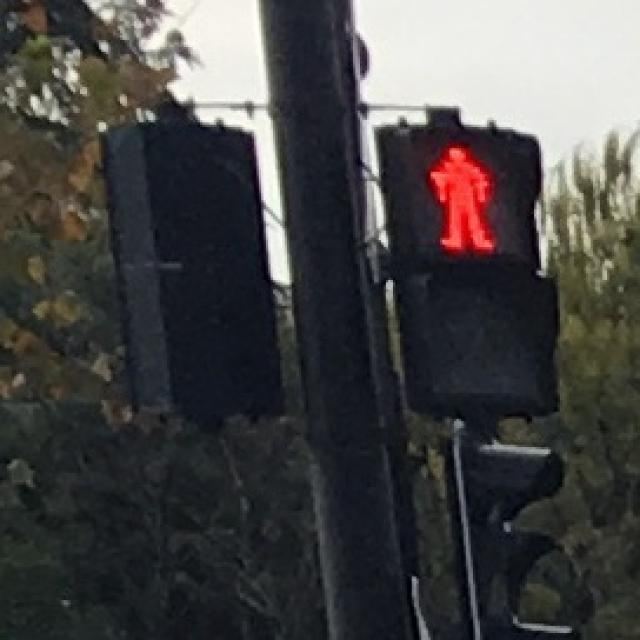red-crossing: (400, 127, 527, 257)
